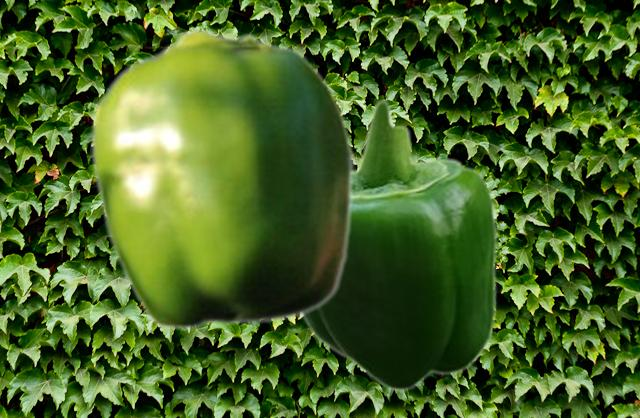bell_pepper: (90, 27, 354, 330), (301, 98, 497, 392)
